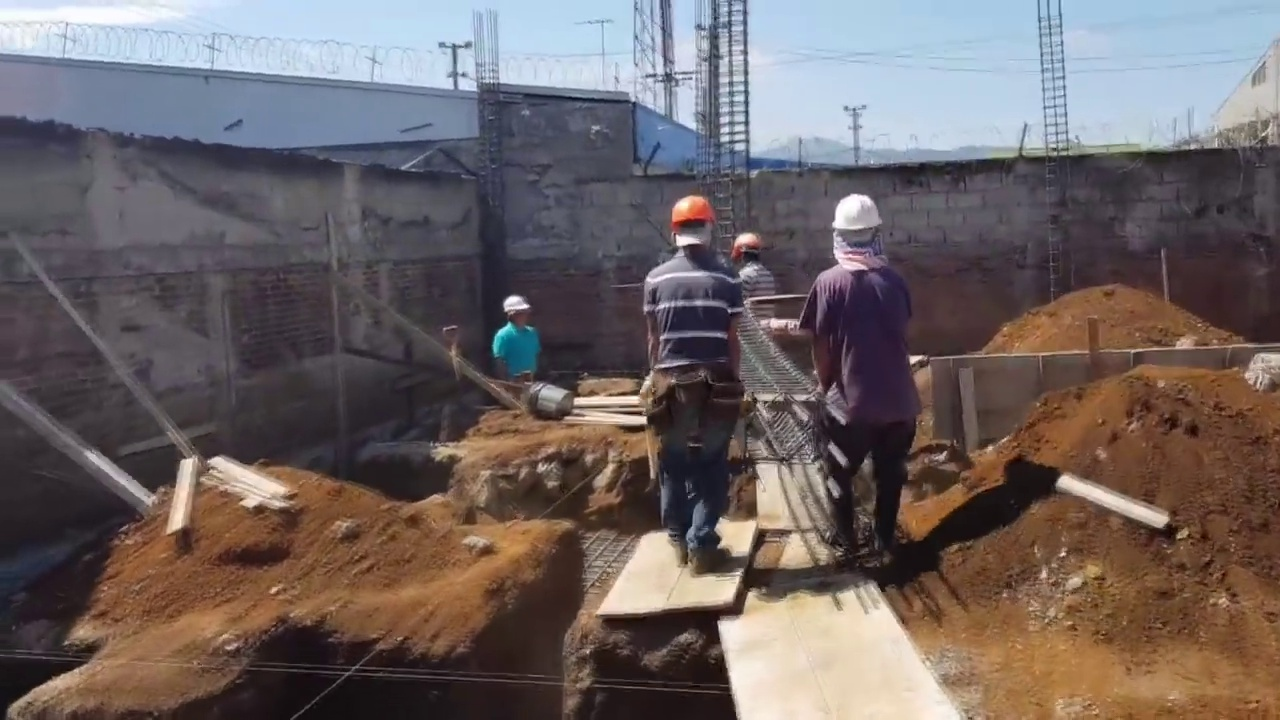helmet: (831, 195, 883, 232), (670, 196, 716, 233), (728, 232, 764, 257), (502, 297, 527, 320)
helmet-on: (833, 196, 889, 268), (669, 197, 717, 256), (729, 232, 765, 268), (501, 297, 531, 333)
person: (804, 182, 928, 580), (638, 194, 755, 575), (491, 294, 545, 384), (726, 233, 776, 314)
